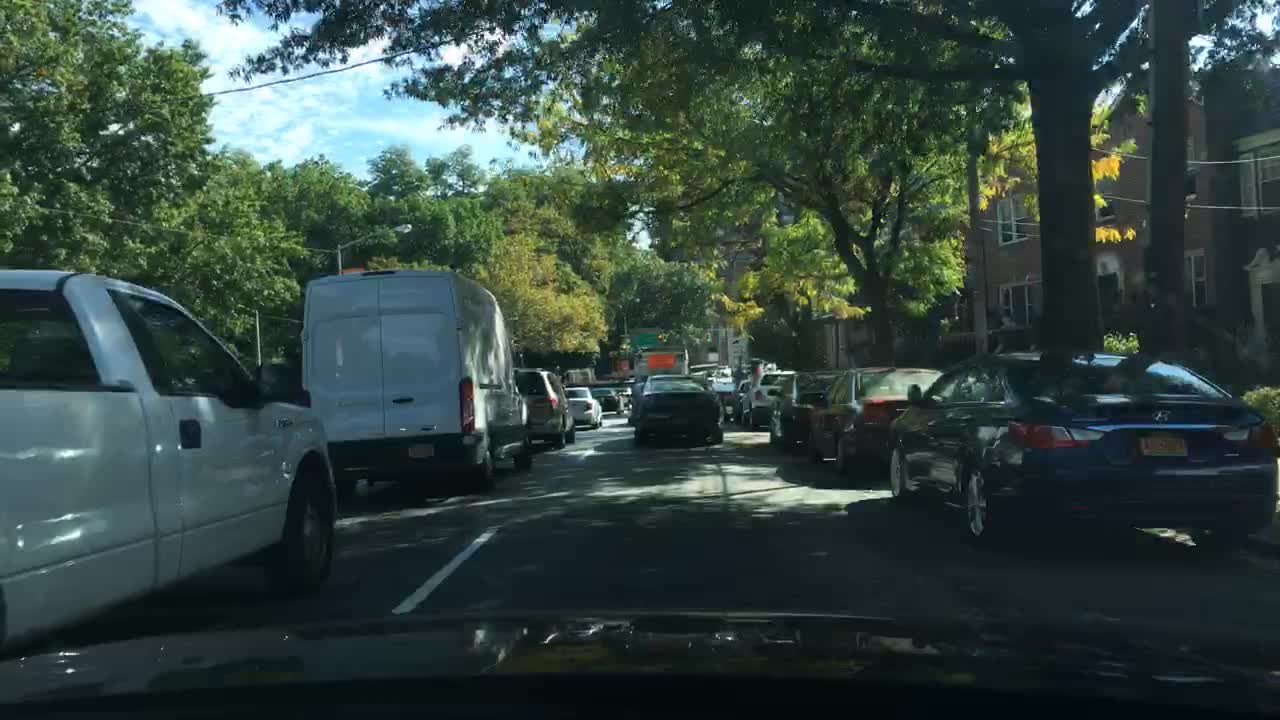car: (0, 266, 337, 658), (887, 350, 1278, 551), (300, 268, 533, 498), (803, 364, 936, 474), (631, 379, 721, 445), (767, 370, 841, 447), (513, 365, 577, 446), (623, 373, 696, 424), (738, 368, 795, 429), (562, 387, 603, 426), (720, 379, 751, 423), (590, 387, 627, 412), (710, 379, 732, 407), (614, 382, 635, 405)
traffic sign: (629, 324, 663, 348)
truck: (635, 348, 685, 381)
